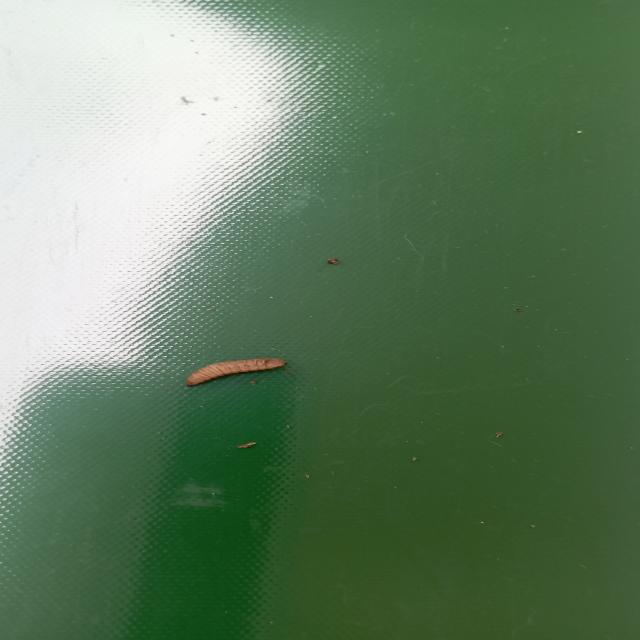Maggot: (185, 359, 287, 388)
